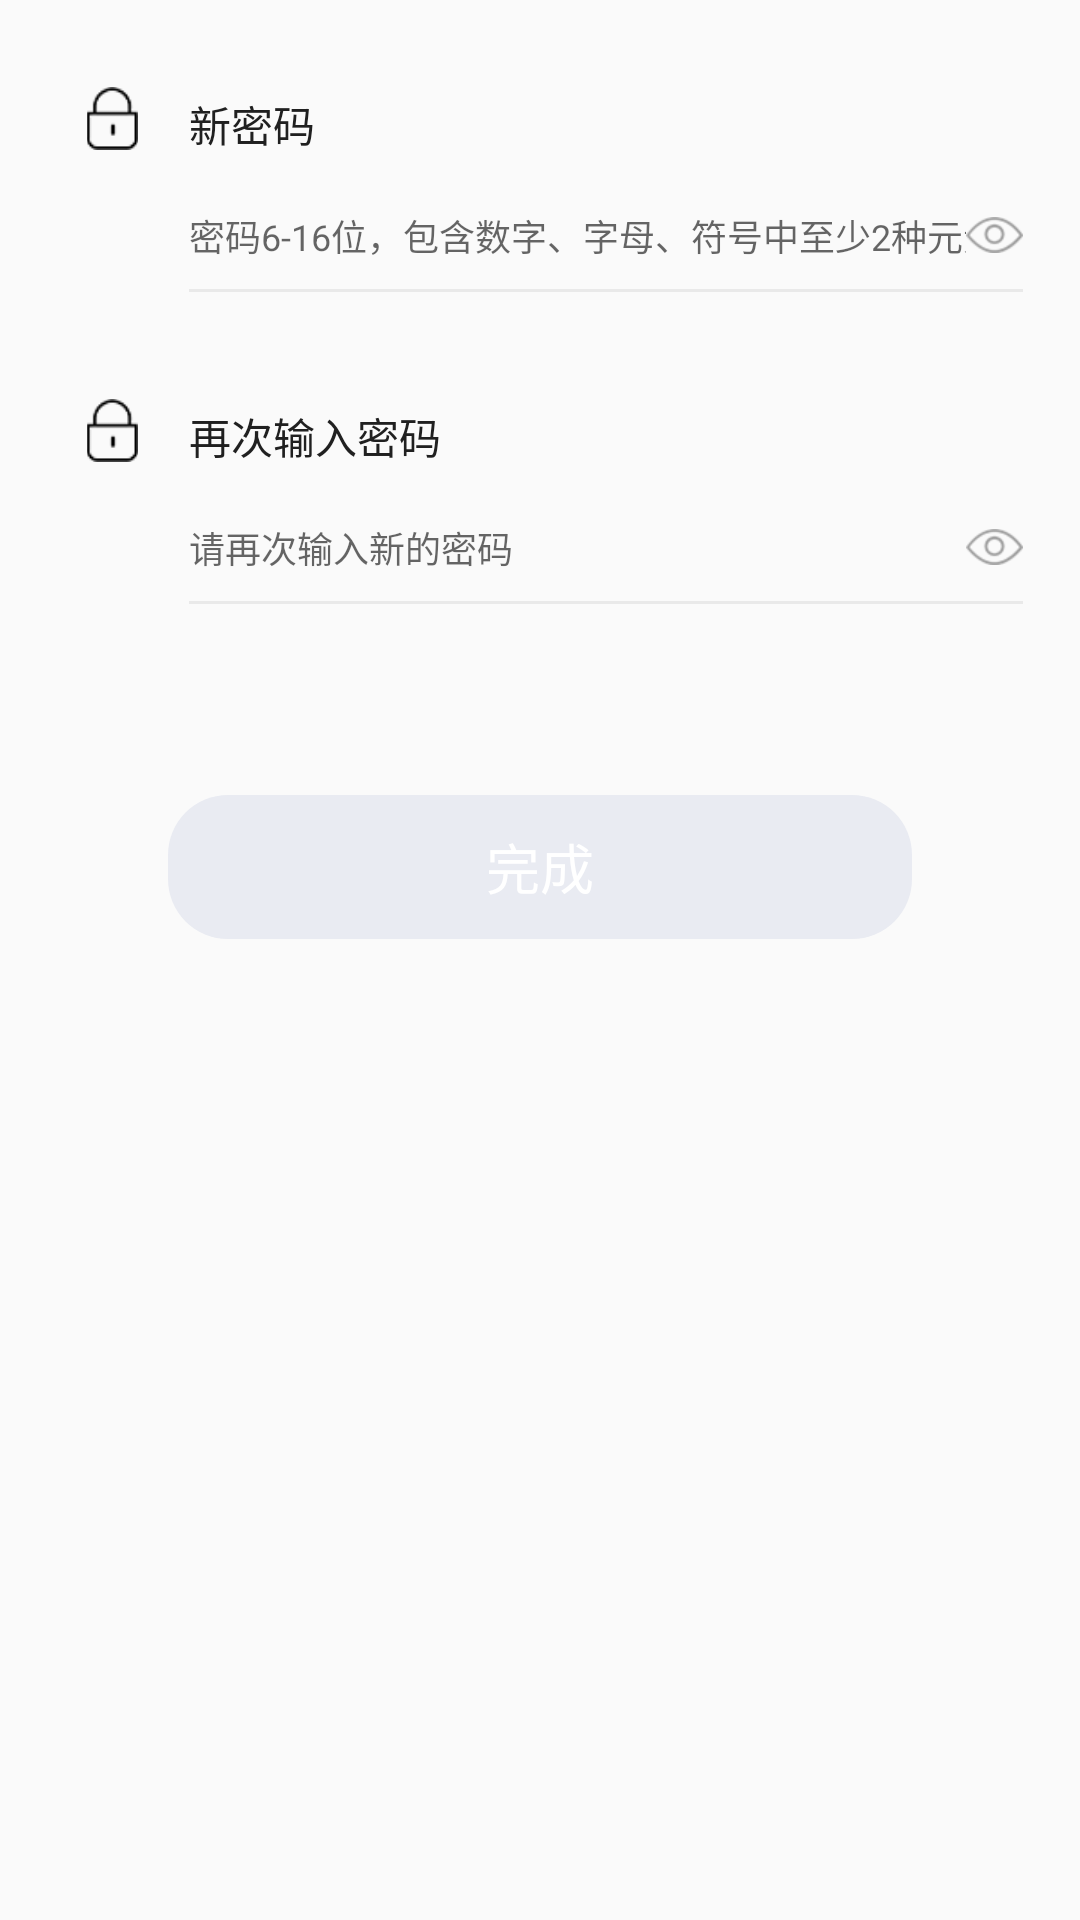

Screen size 1080px x 1920px. Icon name, then its box in pixels as box(x1, y1, x2, y2):
eye see password: box(966, 217, 1023, 253), box(966, 529, 1023, 565)
reset lock: box(87, 87, 138, 150), box(87, 399, 138, 462)
